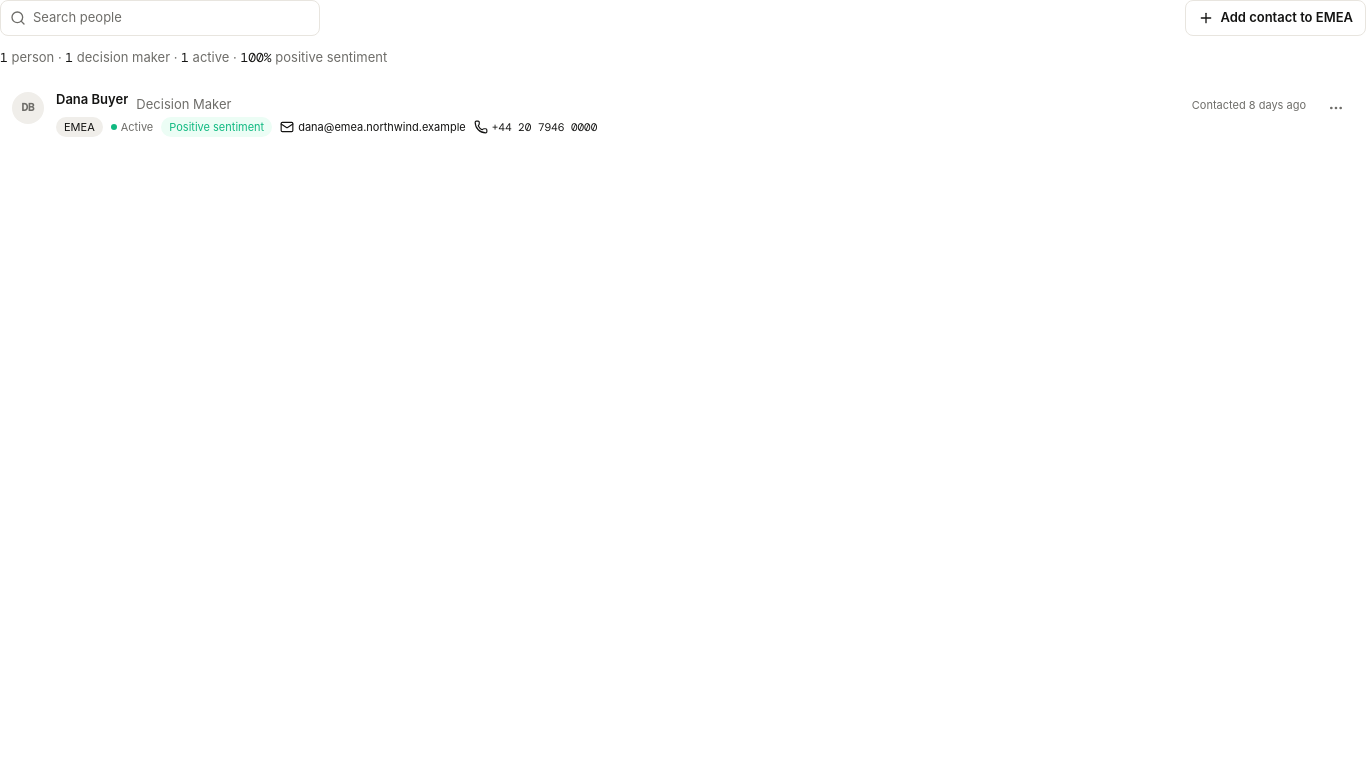
Test: People (spec 2026-09-27 §2) › adds a person on the chosen account, then reads the list again
Click the button "Add contact to EMEA" at (1276, 18), box [1185, 0, 1365, 36]
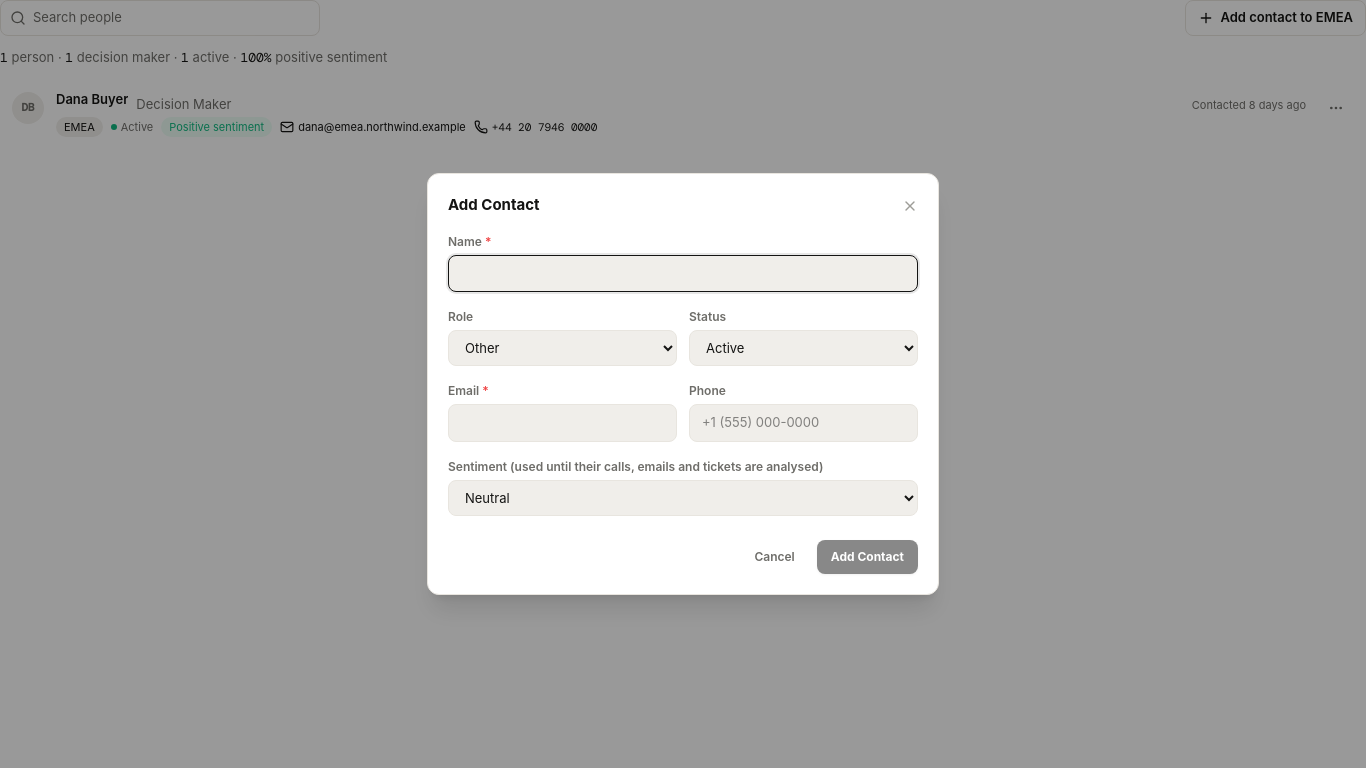
Type "Robin Ops" into the field labelled "Name *" at (683, 274), box [448, 255, 918, 292]
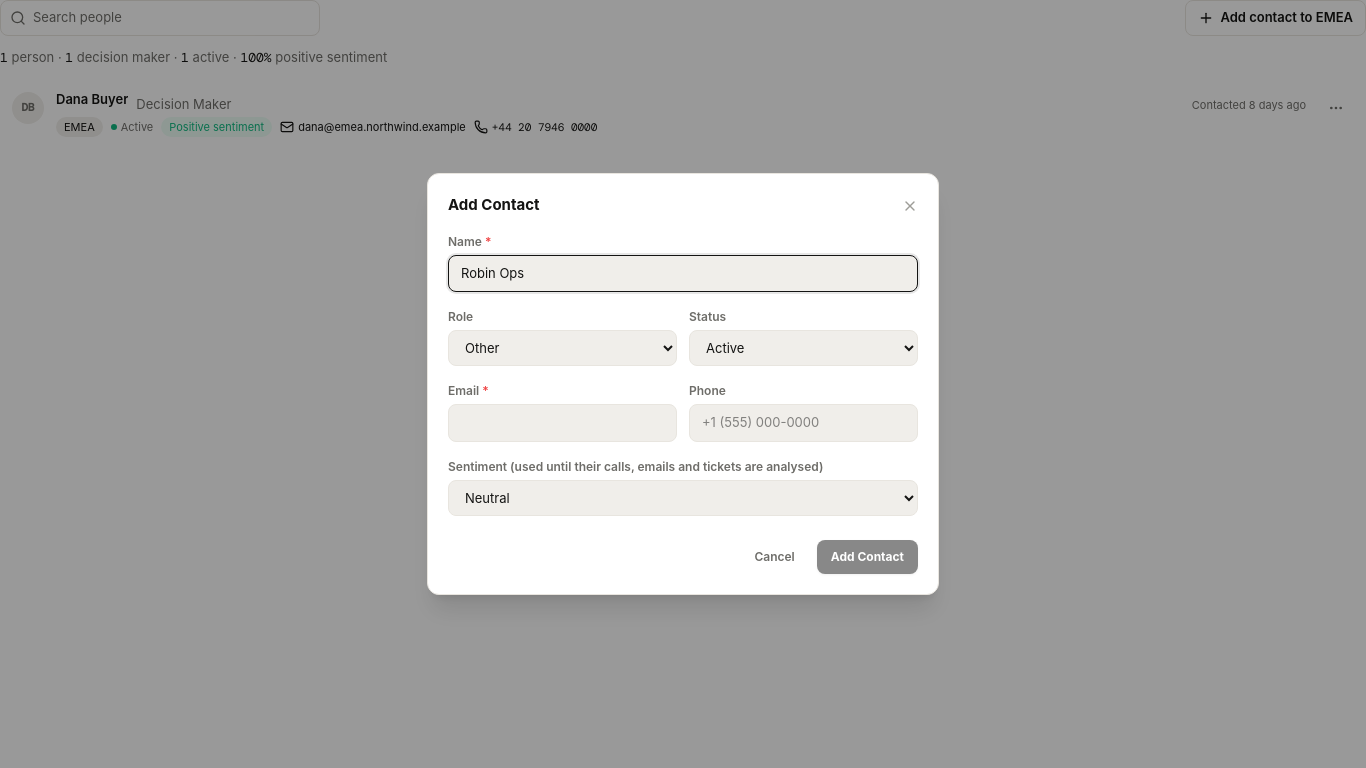
Type "robin@pizzahut.example" into the field labelled "Email *" at (562, 423), box [448, 404, 677, 442]
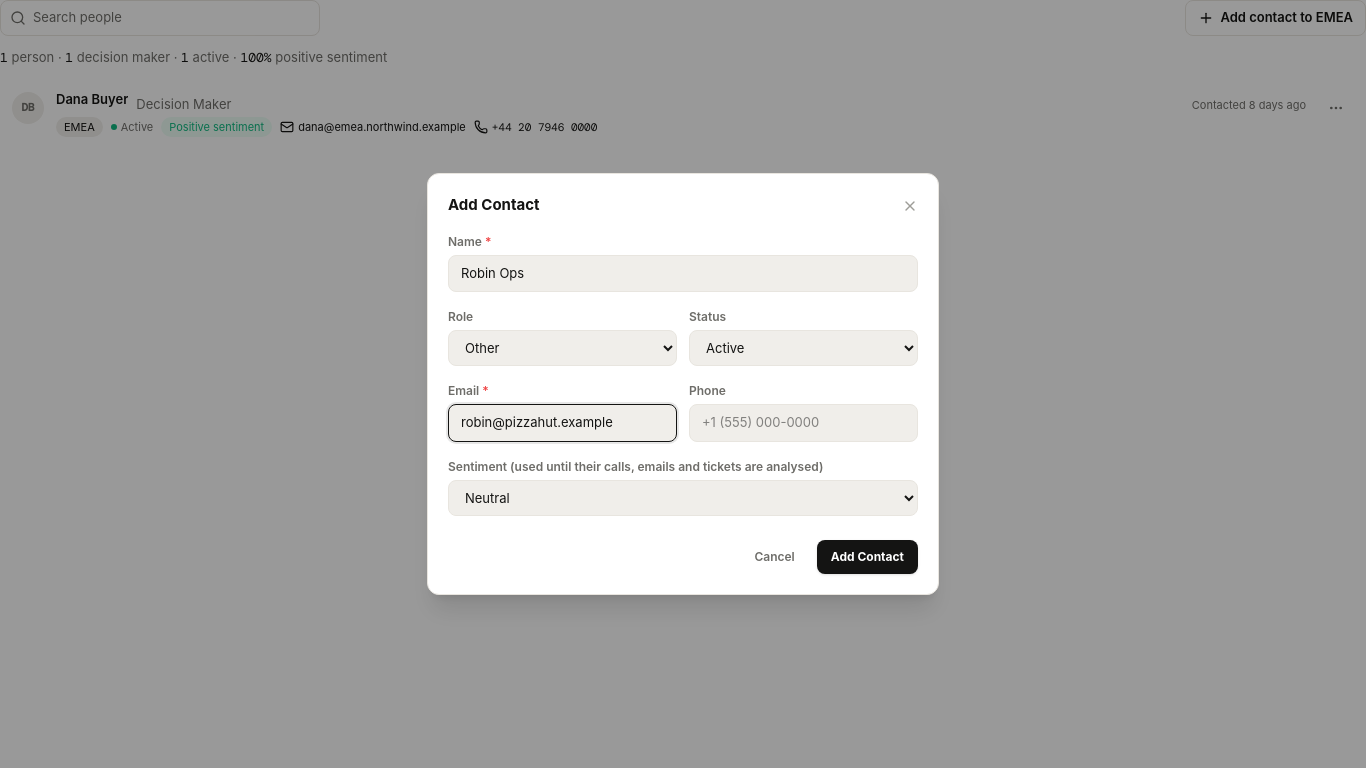
Click the button "Add Contact" at (867, 557), box [817, 540, 918, 574]
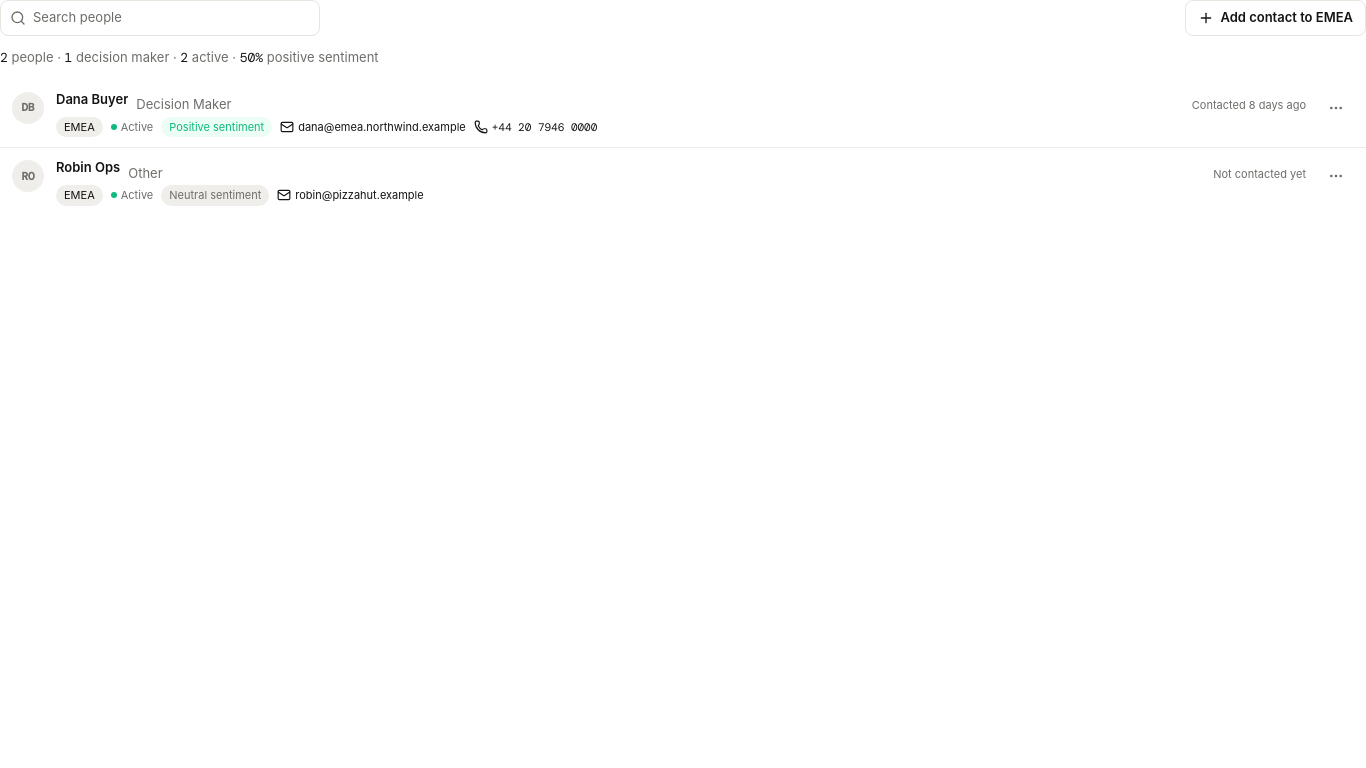
Now the heading "Robin Ops" is shown, box [56, 158, 120, 183]
